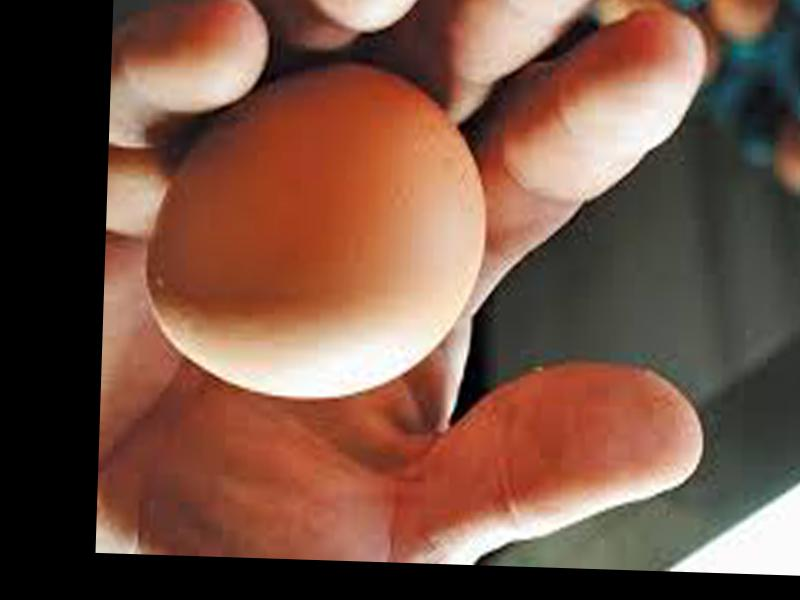Eggs: (136, 52, 492, 402)
